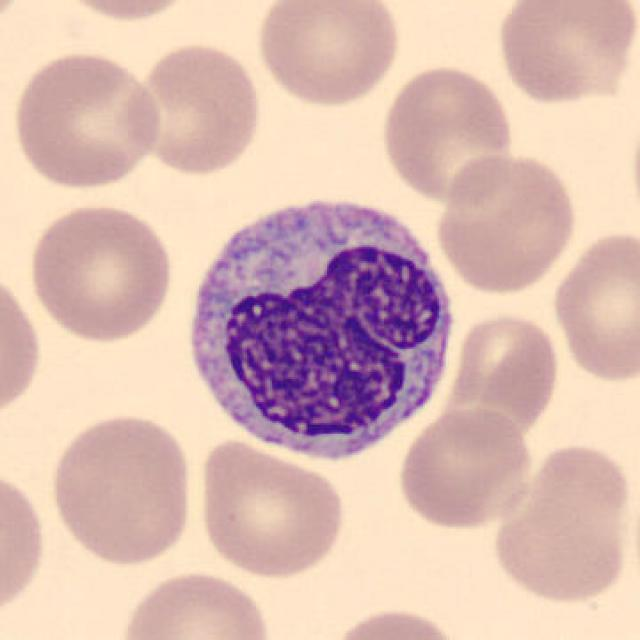Monocyte: (174, 182, 468, 472)
RBC: (487, 439, 637, 608), (44, 409, 196, 568), (25, 199, 178, 346), (9, 48, 165, 192), (194, 436, 348, 580), (432, 150, 580, 296), (379, 60, 517, 208), (126, 39, 265, 178), (395, 406, 537, 532), (252, 0, 406, 111), (444, 308, 564, 442), (492, 0, 638, 108), (548, 224, 638, 386), (114, 566, 276, 640), (0, 462, 50, 628), (0, 264, 46, 426), (325, 603, 466, 640), (44, 0, 204, 25), (0, 0, 32, 42)
